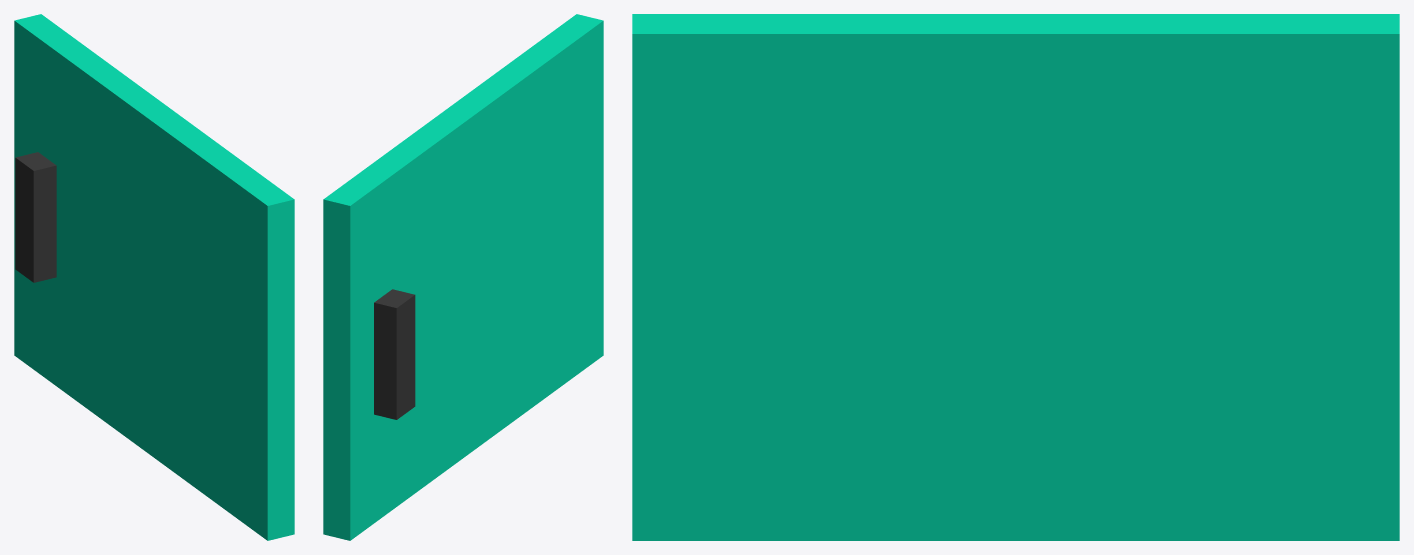
File: tv meubel deur 2.fbx
3 views of the same model, side by side, from view 1: azimuth 30°, elevation 25°; view 2: azimuth 150°, elevation 25°; view 3: azimuth 270°, elevation 25° (orthographic). The views are drawn at different scales.
Visible parts, largest first — view 1: tv meubel deur.001; view 2: tv meubel deur.001; view 3: tv meubel deur.001.
Part boxes in pixels (box(x1,y1,x2,y2)): tv meubel deur.001: box(14, 14, 294, 540); tv meubel deur.001: box(323, 14, 603, 540); tv meubel deur.001: box(632, 14, 1399, 540).
Bounding box in the file's own units: 947 × 6108 × 8373.
